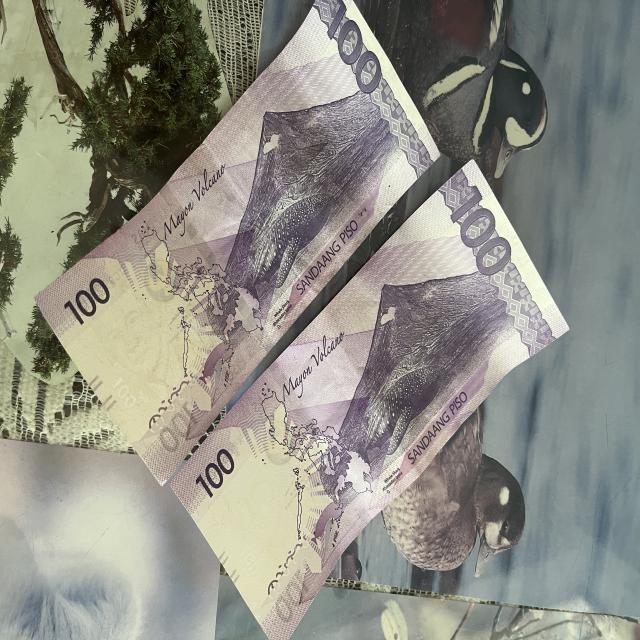100_whale: (238, 196, 338, 310), (358, 354, 449, 466)
100_whale_watermark: (193, 325, 251, 398), (302, 488, 358, 561)
value_watermark: (107, 364, 143, 418)
watermark: (96, 266, 204, 418), (216, 449, 326, 585)
